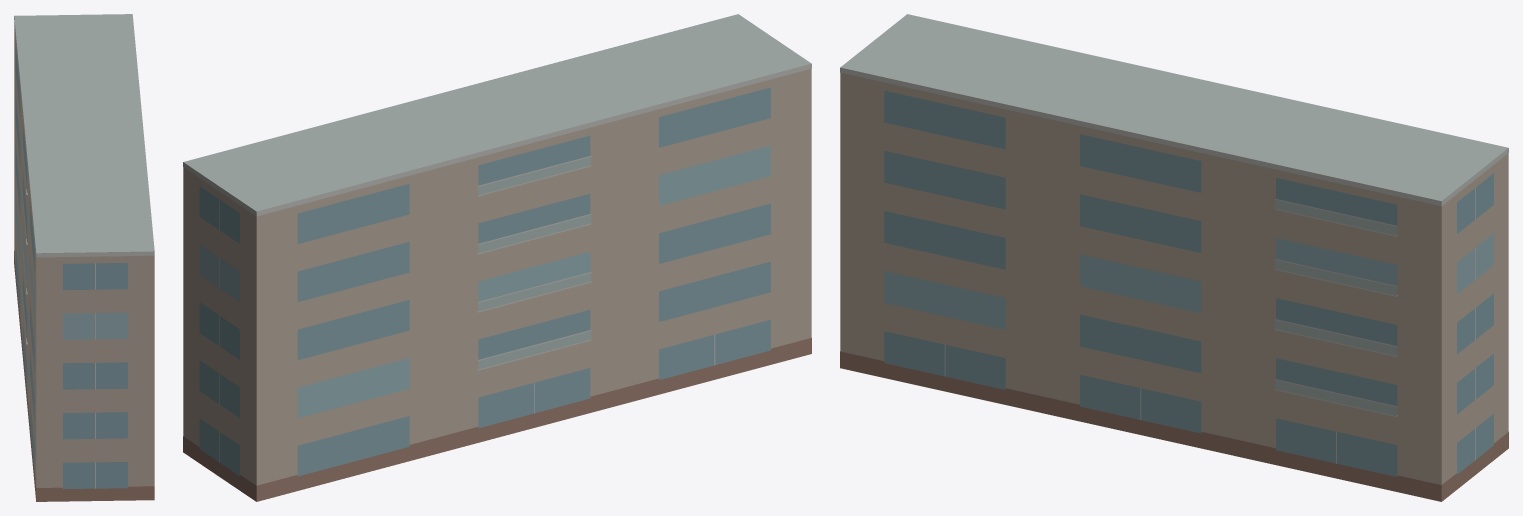
The model's file is survey-upis-32873659.glb.
The picture shows the model from 3 angles, left to right: view 1: azimuth 30°, elevation 25°; view 2: azimuth 150°, elevation 25°; view 3: azimuth 270°, elevation 25°; orthographic projection. The views are drawn at different scales.
Visible parts, largest first — view 1: survey-upis-32873659.tmp; view 2: survey-upis-32873659.tmp; view 3: survey-upis-32873659.tmp.
Part boxes in pixels (x1,y1,x2,y2): survey-upis-32873659.tmp: [14, 14, 154, 501]; survey-upis-32873659.tmp: [183, 14, 811, 501]; survey-upis-32873659.tmp: [840, 14, 1508, 501].
Size of the model in its own units: 19.18 by 14.35 by 28.93.
